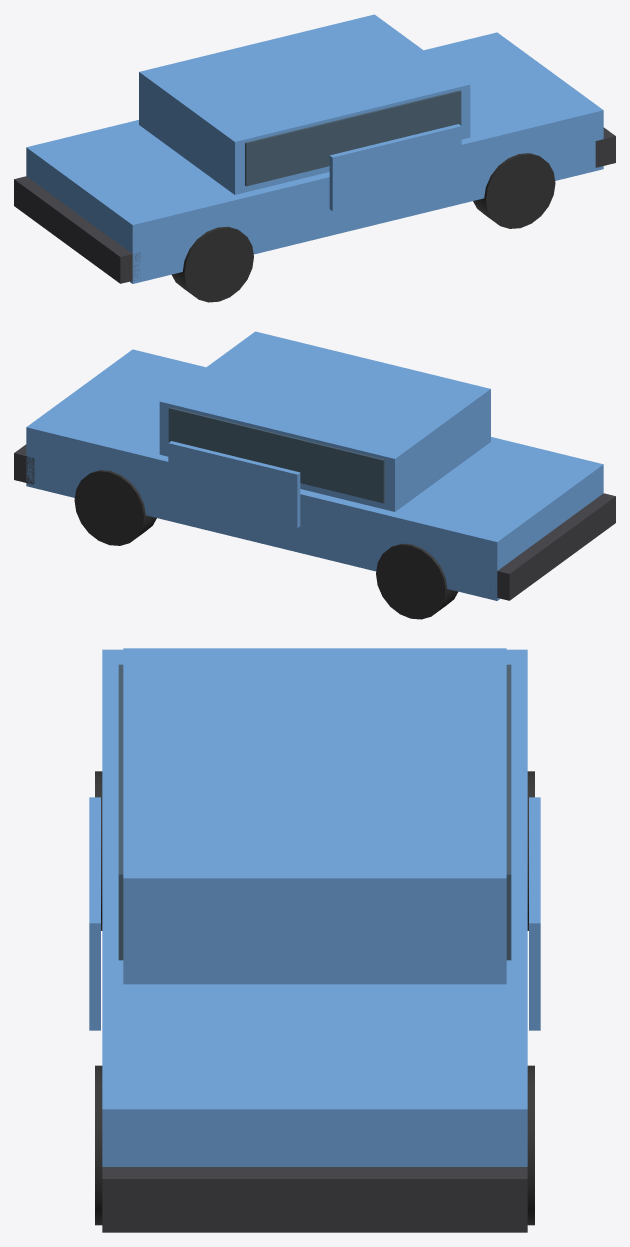
The model's file is sedan.glb.
3 views of the same model, one above another, from view 1: azimuth 30°, elevation 25°; view 2: azimuth 150°, elevation 25°; view 3: azimuth 270°, elevation 25° (orthographic). The views are drawn at different scales.
Visible parts, largest first — view 1: body, cabin, glass, door_L, bumperR, wheel_0, wheel_2, bumperF; view 2: body, cabin, glass, door_R, bumperR, wheel_1, wheel_3, bumperF; view 3: cabin, body, bumperF, glass, door_L, door_R, wheel_0, wheel_1.
Boxes of the visible parts, left/top/right/bottom form: body: left=26, top=32, right=603, bottom=283; cabin: left=139, top=14, right=470, bottom=194; glass: left=245, top=90, right=461, bottom=186; door_L: left=329, top=124, right=461, bottom=210; bumperR: left=14, top=176, right=140, bottom=283; wheel_0: left=473, top=153, right=555, bottom=228; wheel_2: left=172, top=226, right=253, bottom=302; bumperF: left=595, top=127, right=615, bottom=167; body: left=26, top=349, right=603, bottom=600; cabin: left=159, top=331, right=490, bottom=511; glass: left=168, top=407, right=384, bottom=503; door_R: left=168, top=441, right=300, bottom=527; bumperR: left=490, top=493, right=615, bottom=600; wheel_1: left=74, top=470, right=156, bottom=545; wheel_3: left=376, top=543, right=457, bottom=619; bumperF: left=14, top=444, right=34, bottom=484; cabin: left=123, top=648, right=506, bottom=984; body: left=102, top=649, right=527, bottom=1166; bumperF: left=102, top=1167, right=527, bottom=1232; glass: left=118, top=664, right=511, bottom=960; door_L: left=89, top=797, right=100, bottom=1030; door_R: left=529, top=797, right=540, bottom=1030; wheel_0: left=95, top=1065, right=102, bottom=1225; wheel_1: left=527, top=1065, right=534, bottom=1225.
Size of the model in its own units: 4.84 by 1.39 by 1.91.
